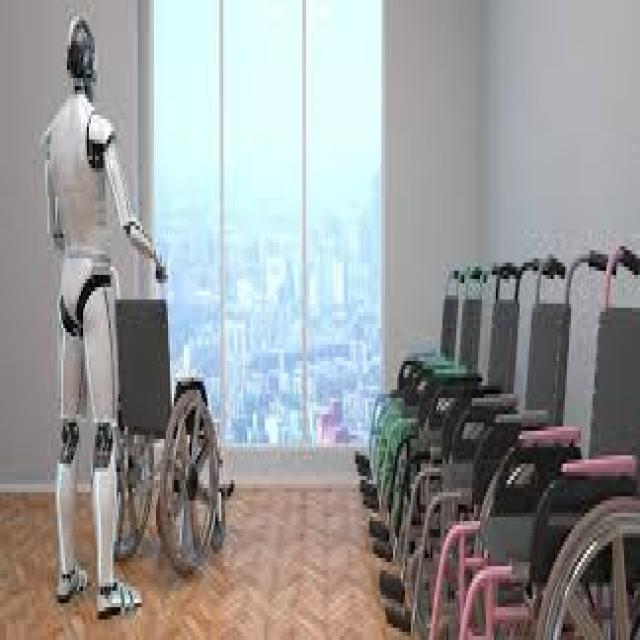humanoid-leg: (92, 458, 143, 615), (52, 438, 90, 605)
